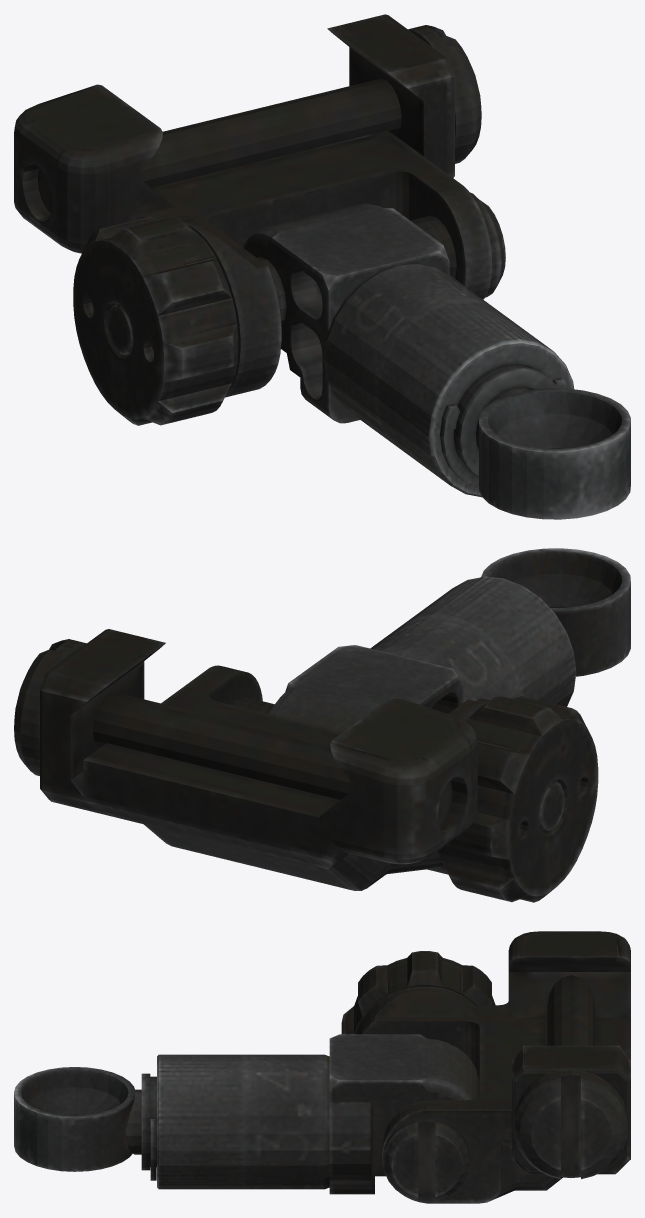
The picture shows the model from 3 angles, top to bottom: view 1: azimuth 30°, elevation 25°; view 2: azimuth 150°, elevation 25°; view 3: azimuth 270°, elevation 25°; orthographic projection. The views are drawn at different scales.
Visible parts, largest first — view 1: TW_5dfa3d7ac41b2312ea33362a_folded_PZ_Import; view 2: TW_5dfa3d7ac41b2312ea33362a_folded_PZ_Import; view 3: TW_5dfa3d7ac41b2312ea33362a_folded_PZ_Import.
Part boxes in pixels (left/top/right/bottom): TW_5dfa3d7ac41b2312ea33362a_folded_PZ_Import: left=14, top=14, right=630, bottom=519; TW_5dfa3d7ac41b2312ea33362a_folded_PZ_Import: left=14, top=548, right=630, bottom=902; TW_5dfa3d7ac41b2312ea33362a_folded_PZ_Import: left=14, top=931, right=630, bottom=1203.
Bounding box in the file's own units: 0.0184 × 0.0288 × 0.0094.
1 material, 1 textured.
